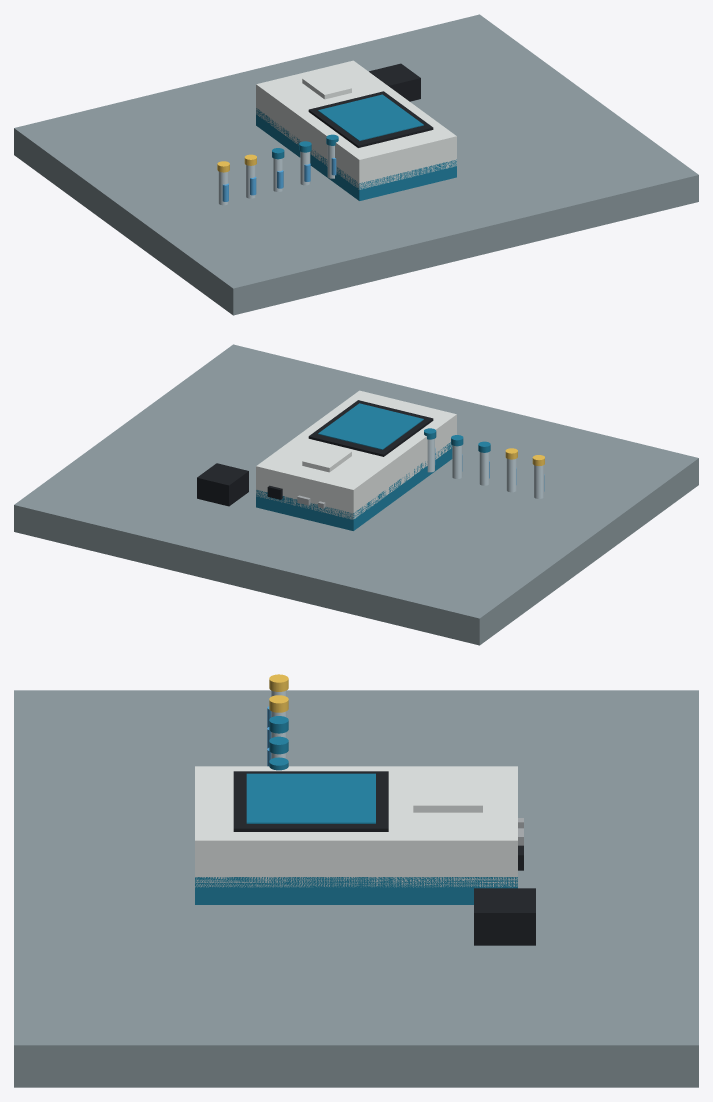
The model's file is qubit21.glb.
3 renders of one model, top to bottom at view 1: azimuth 30°, elevation 25°; view 2: azimuth 150°, elevation 25°; view 3: azimuth 270°, elevation 25°, orthographic. The views are drawn at different scales.
Parts seen in each view (by area): view 1: environment.bench, machine.body, machine.base, controls.display, controls.touchscreen, power.adapter, lid.panel; view 2: environment.bench, machine.body, machine.base, controls.display, power.adapter, controls.touchscreen, lid.panel; view 3: environment.bench, machine.body, machine.base, controls.display, power.adapter, controls.touchscreen, lid.panel.
Part boxes in pixels (left/top/right/bottom): environment.bench: left=14, top=14, right=698, bottom=315; machine.body: left=256, top=60, right=456, bottom=189; machine.base: left=256, top=108, right=456, bottom=200; controls.display: left=318, top=94, right=423, bottom=140; controls.touchscreen: left=308, top=91, right=433, bottom=147; power.adapter: left=369, top=63, right=420, bottom=101; lid.panel: left=302, top=72, right=351, bottom=99; environment.bench: left=14, top=344, right=698, bottom=645; machine.body: left=256, top=390, right=456, bottom=519; machine.base: left=256, top=442, right=452, bottom=530; controls.display: left=318, top=403, right=423, bottom=449; power.adapter: left=197, top=463, right=248, bottom=506; controls.touchscreen: left=308, top=400, right=433, bottom=456; lid.panel: left=302, top=445, right=351, bottom=472; environment.bench: left=14, top=690, right=698, bottom=1087; machine.body: left=195, top=766, right=517, bottom=887; machine.base: left=195, top=877, right=517, bottom=904; controls.display: left=246, top=773, right=375, bottom=823; power.adapter: left=474, top=888, right=535, bottom=945; controls.touchscreen: left=233, top=771, right=388, bottom=831; lid.panel: left=413, top=785, right=482, bottom=812.
Size of the model in its own units: 0.65 by 0.098 by 0.53.
